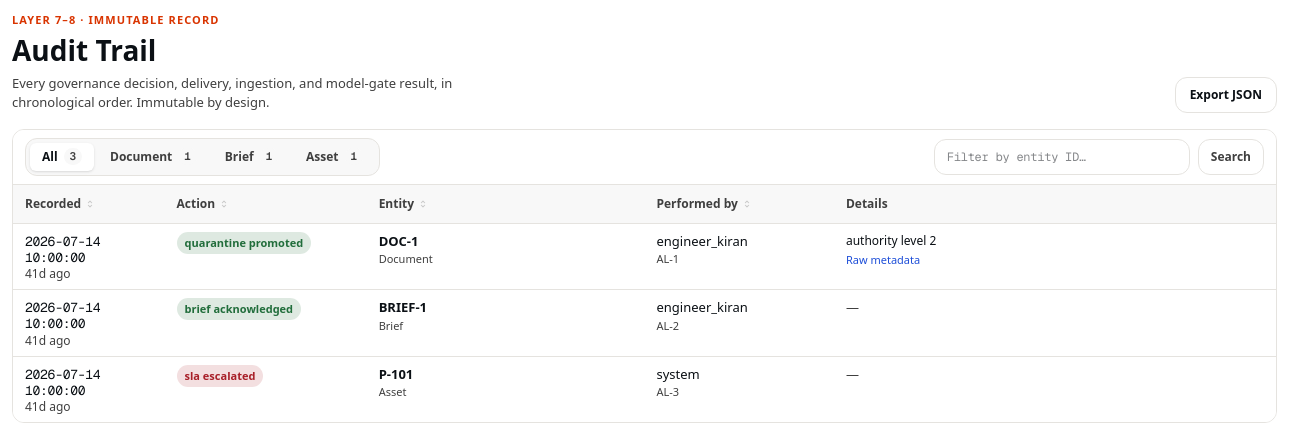
Scenario: AuditPage › filters by entity type, exposes metadata via native disclosure, and exports JSON
Expected: the text "AL-1" is shown, 656,251 -> 679,266
Click the button "Document 1" at (153, 156), box 98,142 -> 209,170
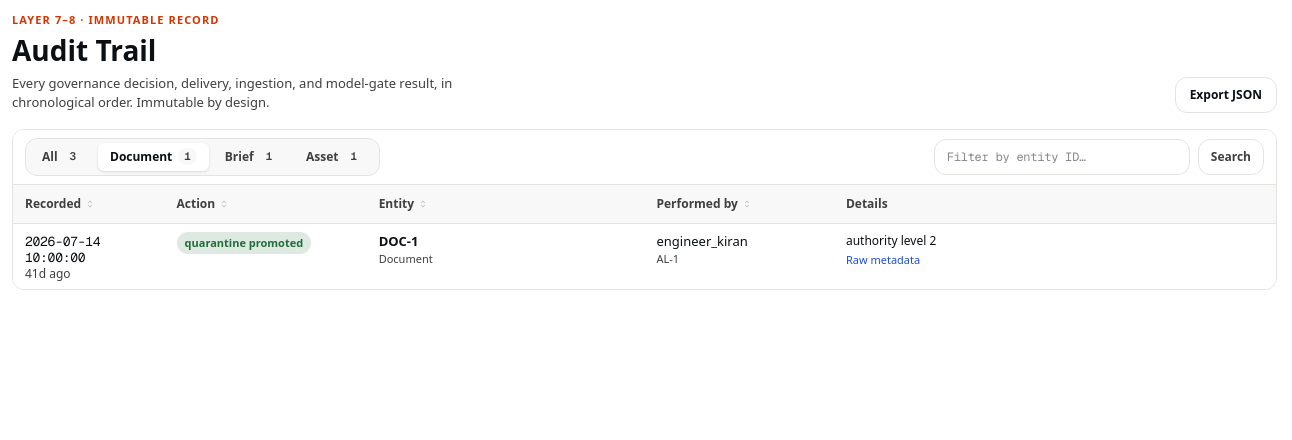
Expected: the text "AL-1" is shown, 656,251 -> 679,266
Expected: the text "AL-2" is gone
